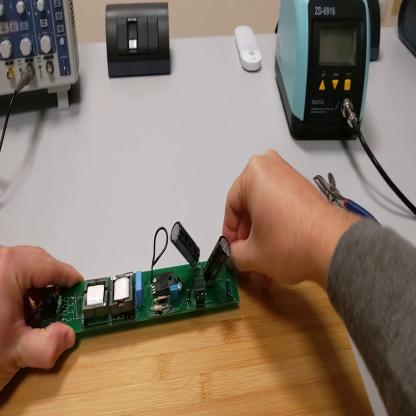hand: (222, 150, 325, 292), (2, 243, 82, 381)
high voltage board: (28, 217, 239, 335)
oscilloscope: (2, 2, 83, 118)
pliers: (314, 168, 384, 240)
socket: (398, 1, 416, 60), (369, 3, 383, 65)
welder station: (276, 2, 370, 143)
working area: (2, 250, 375, 416)
